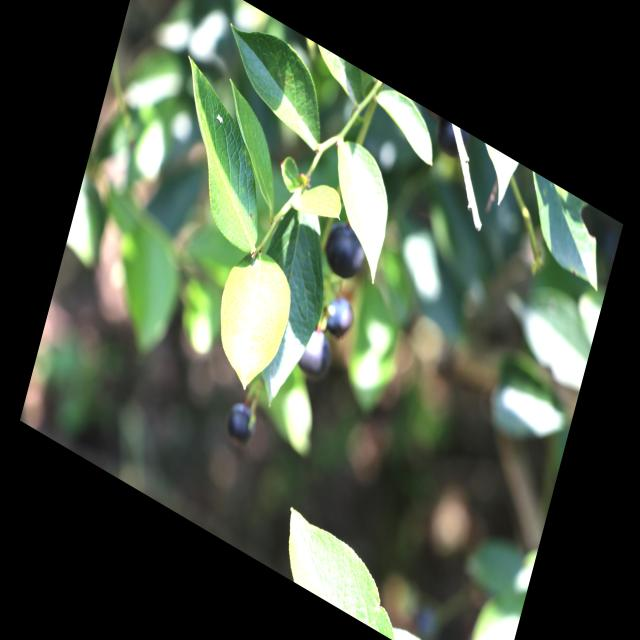blueberry: (316, 211, 372, 289), (290, 319, 340, 394), (317, 285, 360, 347), (220, 396, 258, 452)
